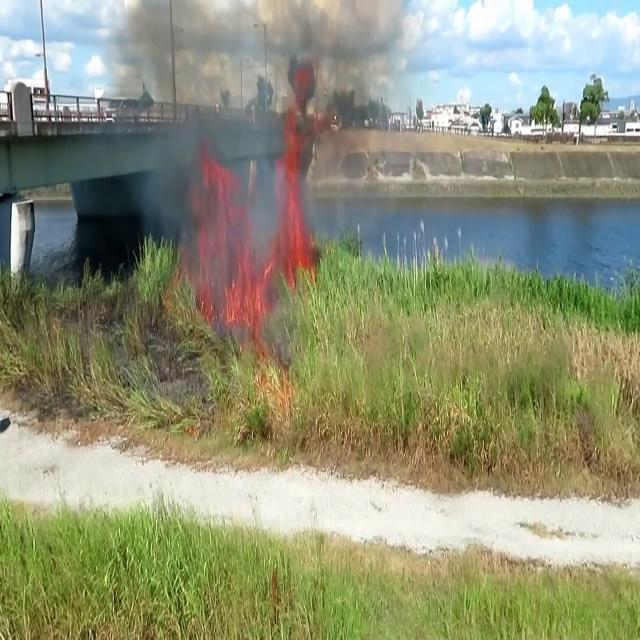Fire: (272, 99, 316, 289)
Smoke: (106, 0, 402, 316)
